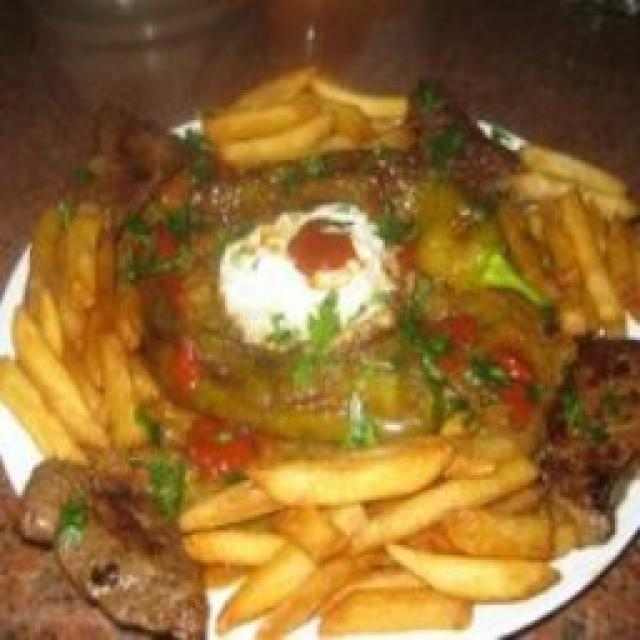Kafteji: (0, 66, 640, 640)
